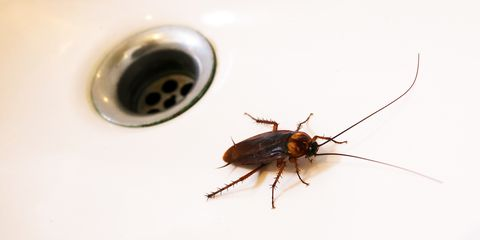cockroach: (203, 107, 354, 210)
